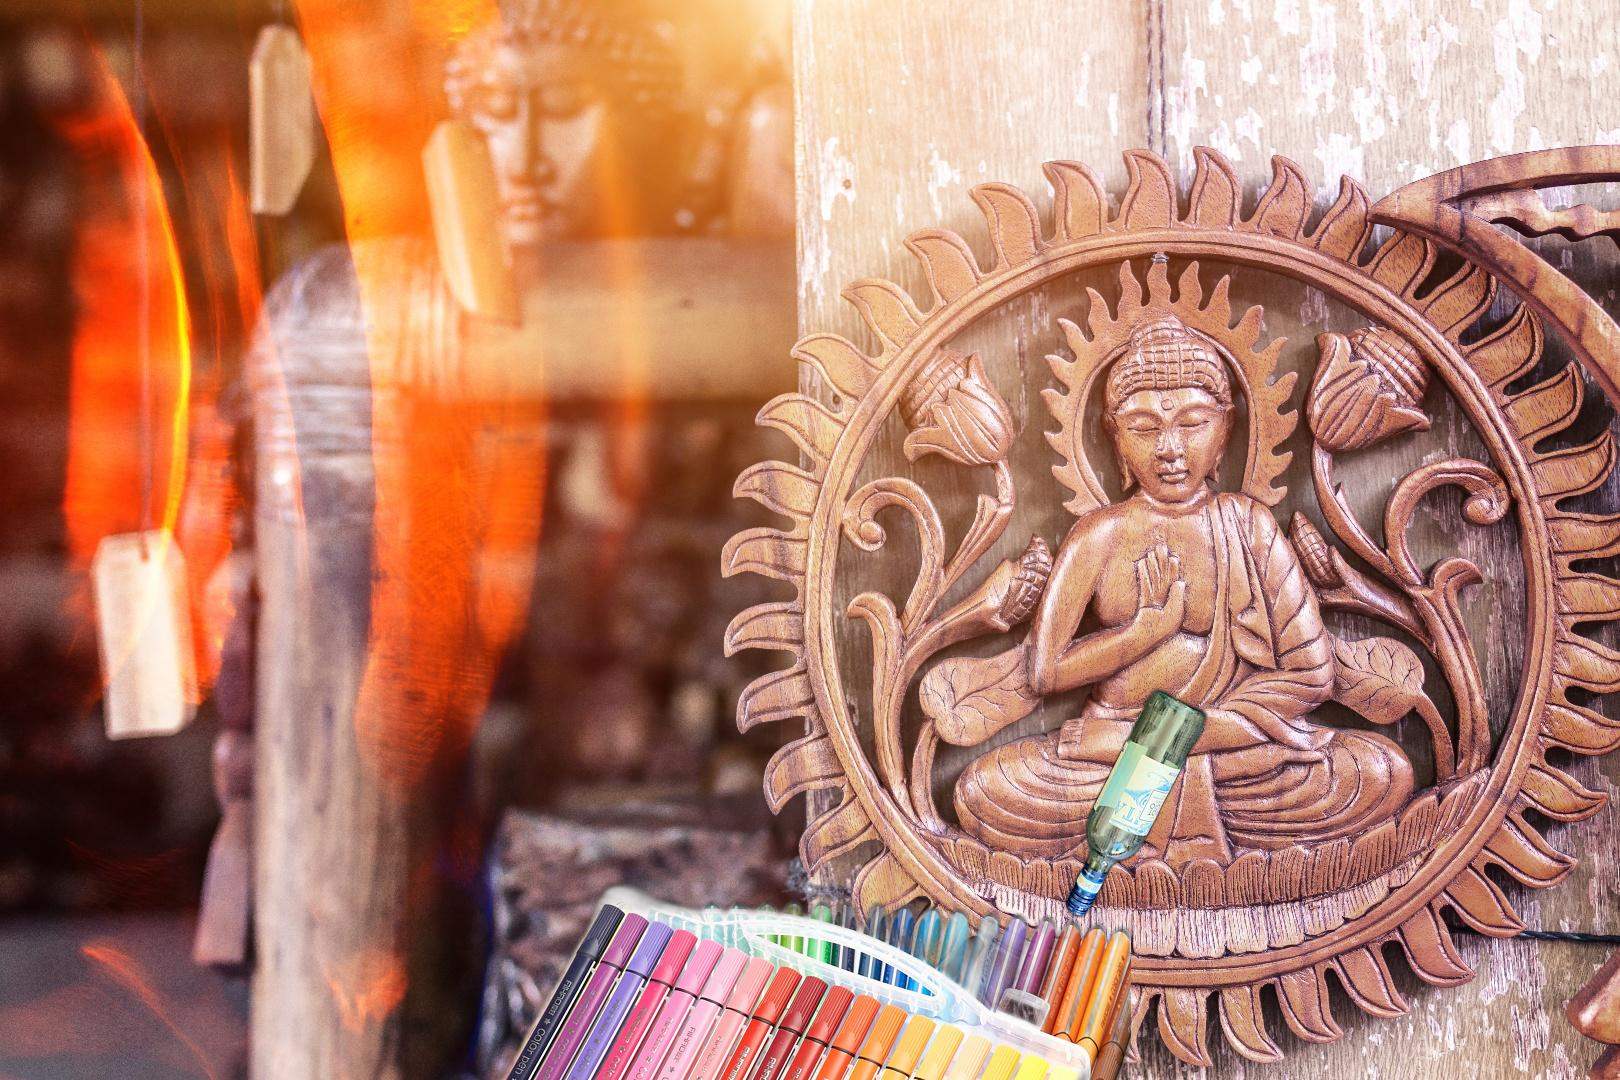glass: (1060, 685, 1211, 922)
penholder: (331, 871, 1131, 1080)
